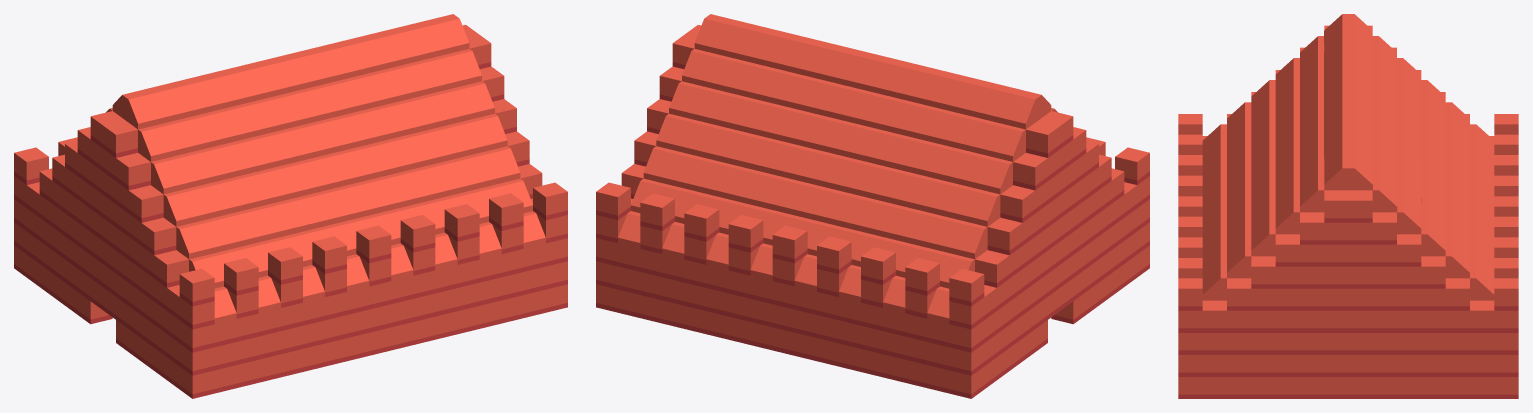
Rendered from GreatHall.obj.
3 views of the same model, side by side, from view 1: azimuth 30°, elevation 25°; view 2: azimuth 150°, elevation 25°; view 3: azimuth 270°, elevation 25° (orthographic). The views are drawn at different scales.
Visible parts, largest first — view 1: block, block_corner_large; view 2: block, block_corner_large; view 3: block, block_corner_large.
Boxes of the visible parts, <box> form: block: <box>14,25,567,398</box>; block_corner_large: <box>106,14,545,323</box>; block: <box>596,25,1149,398</box>; block_corner_large: <box>618,14,1057,323</box>; block: <box>1178,25,1518,398</box>; block_corner_large: <box>1202,14,1494,300</box>.
Size of the model in its own units: 17 by 10 by 14.
